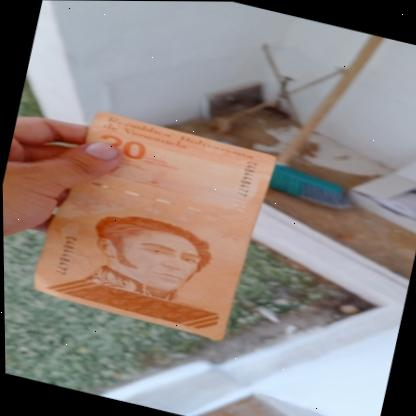twenty-front-vef: (26, 102, 281, 347)
